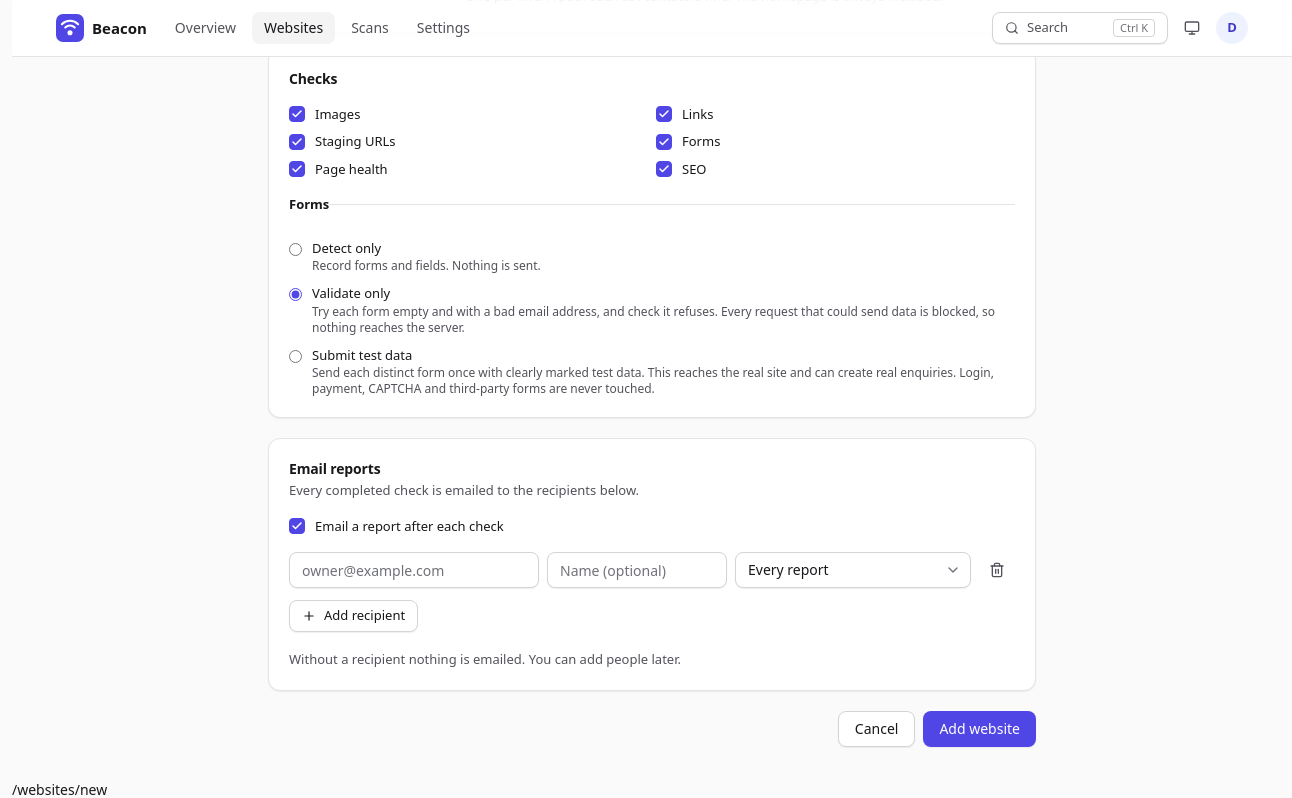
adding a website › shows what is wrong next to the fields and puts focus on the first one
(page scrolled)
Step 1. Click the button "Add website" → (980, 728), box [923,710,1036,746]
(page scrolled)
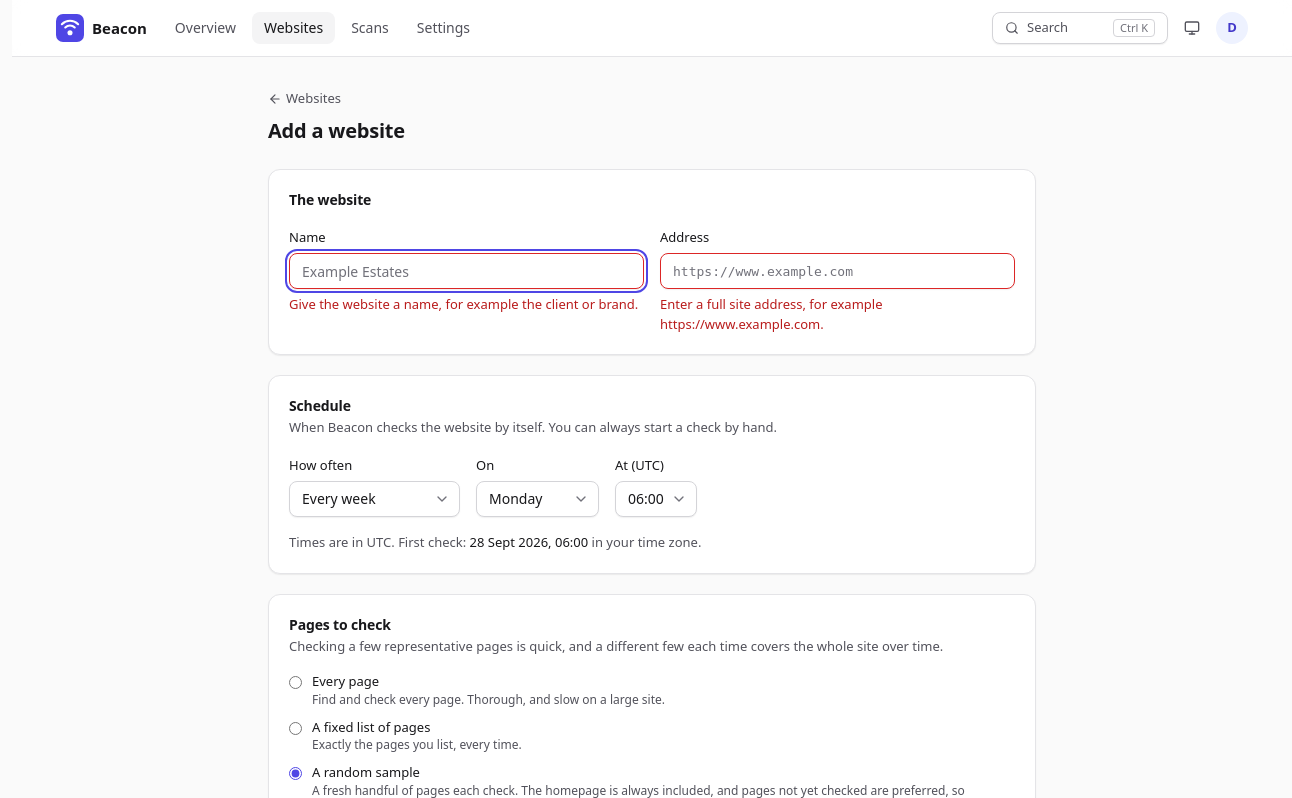
Expected: the text "Give the website a name, for example the client or brand." is shown, [289,295,644,314]
Expected: the text "Enter a full site address, for example https://www.example.com." is shown, [660,295,882,332]
